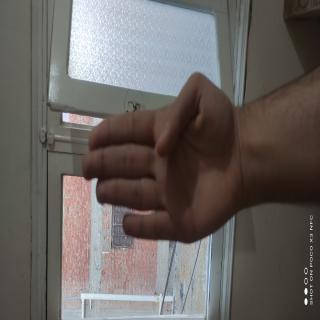KAAF: (34, 169, 115, 320)
